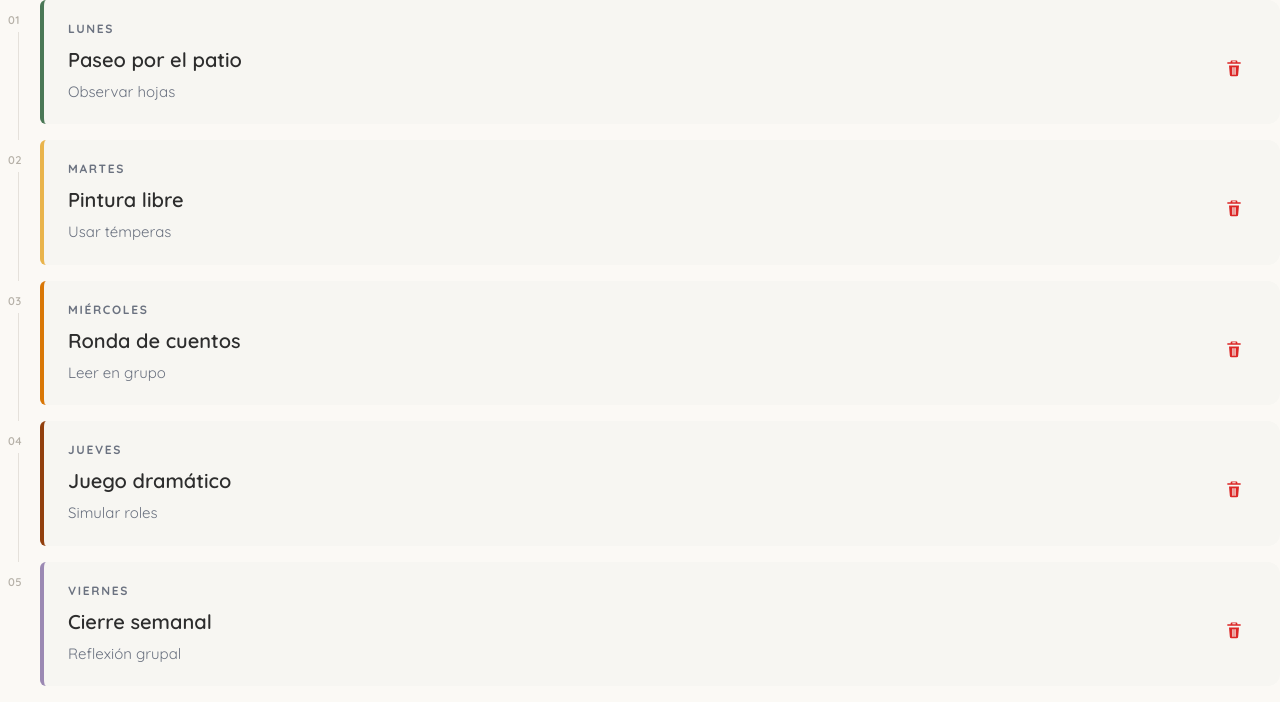
Test case: ActividadesTab - eliminar actividad › abre un diálogo de confirmación accesible y enfoca Cancelar
What coordinates should you click on to do the following:
click the button named "Eliminar actividad: Paseo por el patio"
I would click on:
 (1234, 68)
Its box is [1212,46,1256,90].
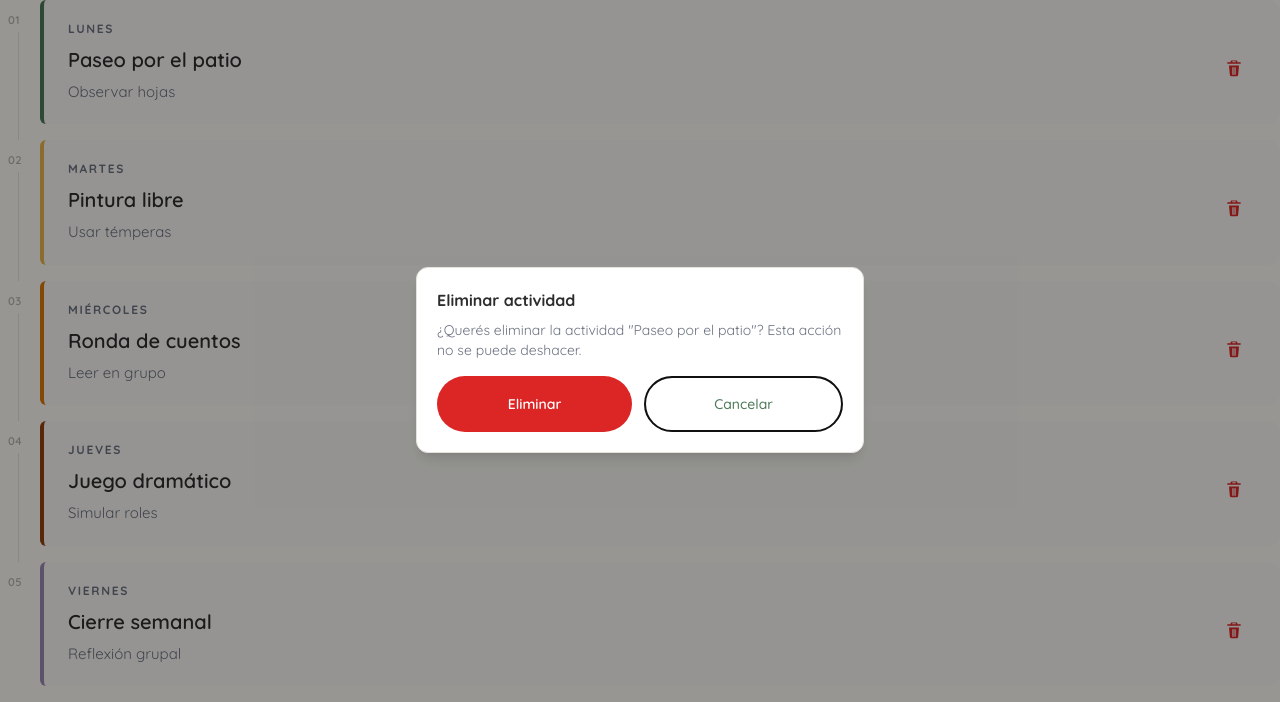
Result: the dialog shows "Paseo por el patio" at [628,321,757,339]
